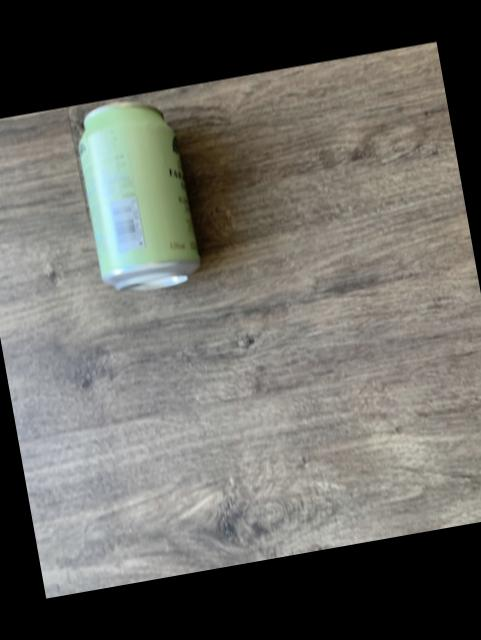metal: (78, 101, 198, 288)
